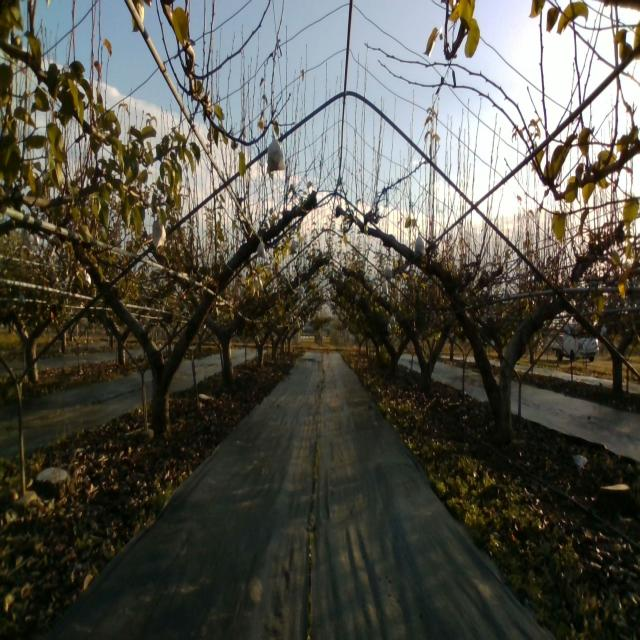pearbags: (267, 130, 286, 171), (152, 220, 166, 250), (414, 232, 426, 258)
